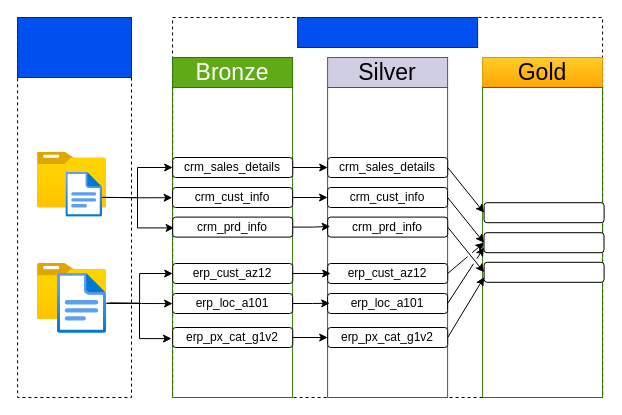
Image size: 622x415. Some labels were removed from this diagram. The centre of each missing label's shape, as x and y in pixels:
"CRM" goes at pixel 83 194.
"Data Warehouse" goes at pixel 387 32.
"ERP" goes at pixel 81 303.
"gold.dim_customers" goes at pixel 543 242.
"gold.dim_products" goes at pixel 543 271.
"gold.fact_sales" goes at pixel 543 212.
"Sources" goes at pixel 74 47.
